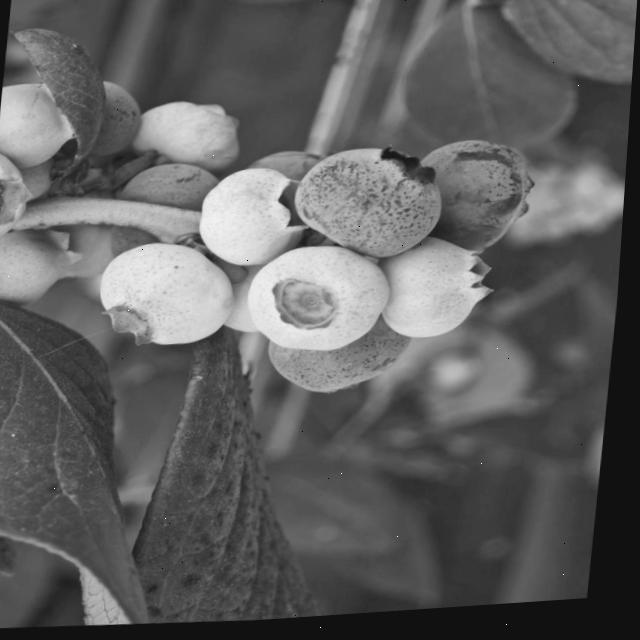RipeBlueBerry: (418, 138, 544, 262)
Semi-RipeBlueBerry: (291, 143, 453, 268)
UnripeBlueBerry: (244, 241, 403, 362), (96, 236, 245, 355)
